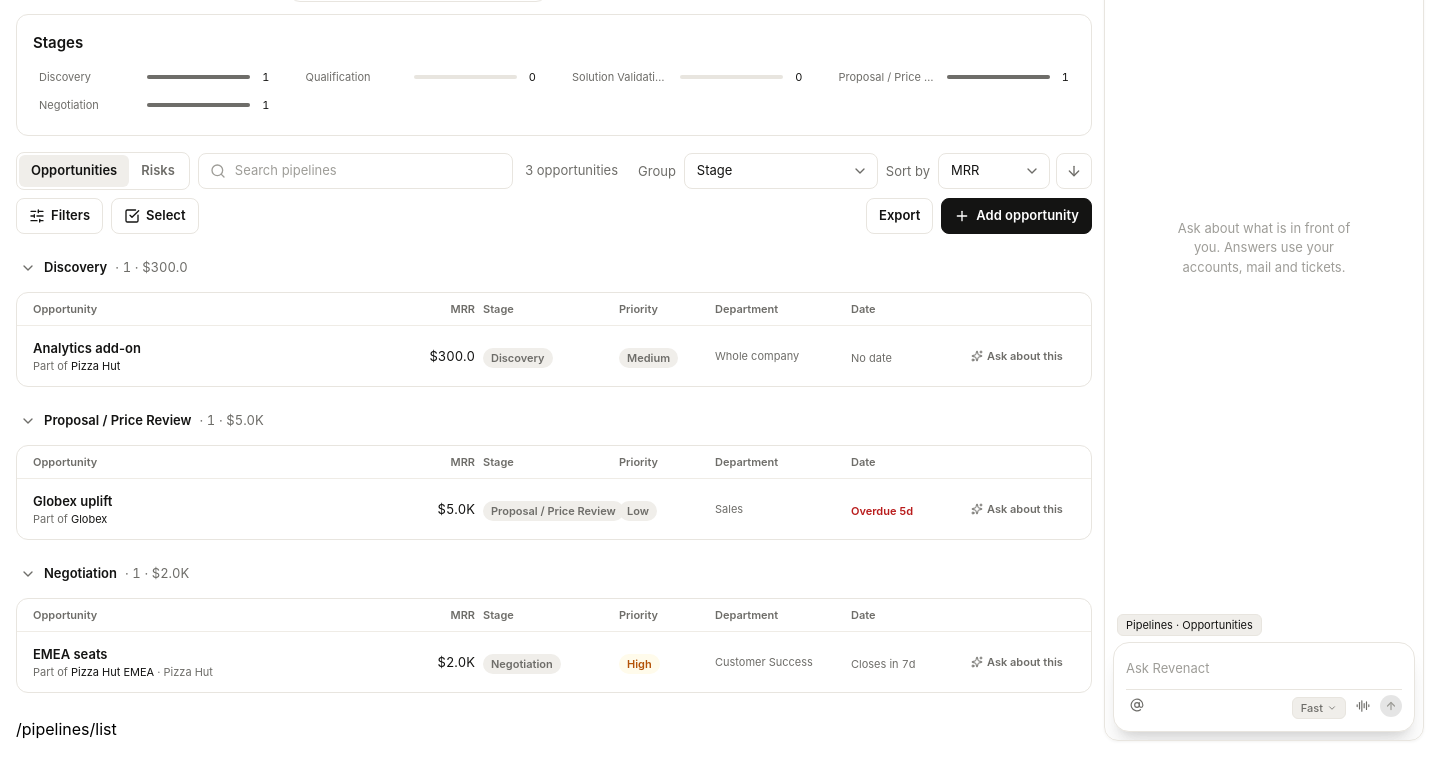
Test: Ask about this on Pipelines › drops an unsent focus and its untouched question when the kind changes
(page scrolled)
Click the button with aria-label "Ask about this: EMEA seats": (1017, 662) [971,644,1063,680]
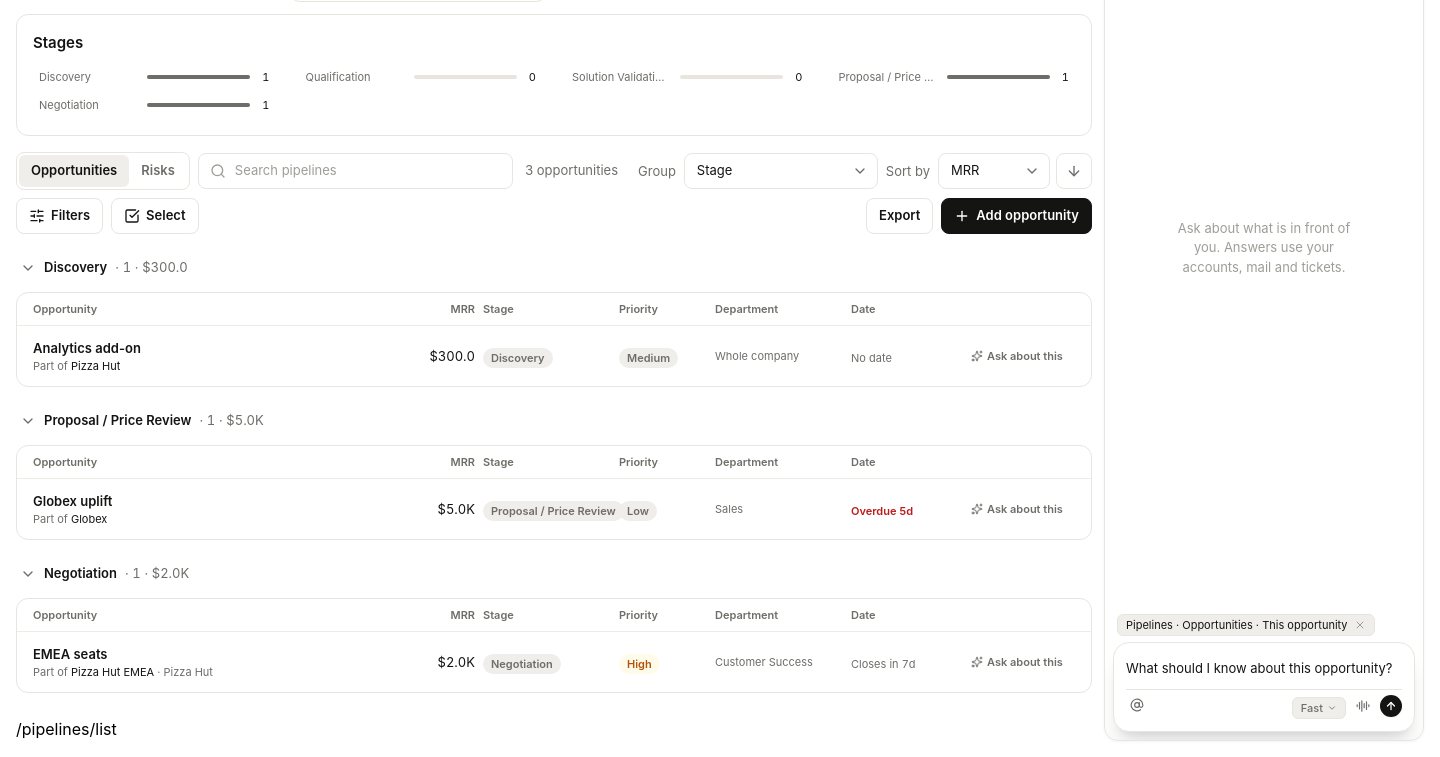
Expected: the text "Pipelines · Opportunities · This opportunity" is shown, [1117,614,1374,636]
Click the button "Risks": (158, 171) [129,155,187,187]
(page scrolled)
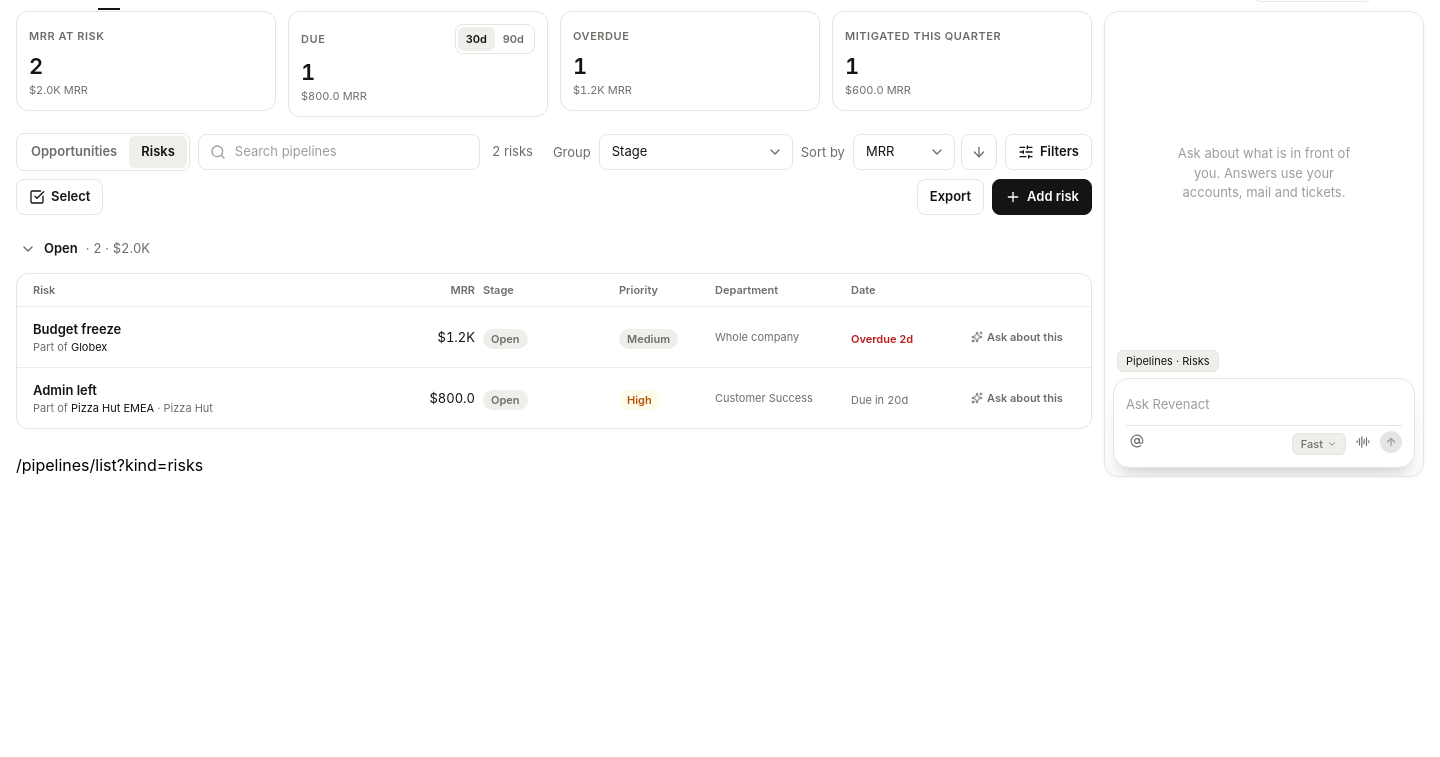
Expected: the text "Pipelines · Risks" is shown, [1117,350,1219,372]
Expected: the field with placeholder "Ask Revenact" is empty, [1126,393,1402,416]
